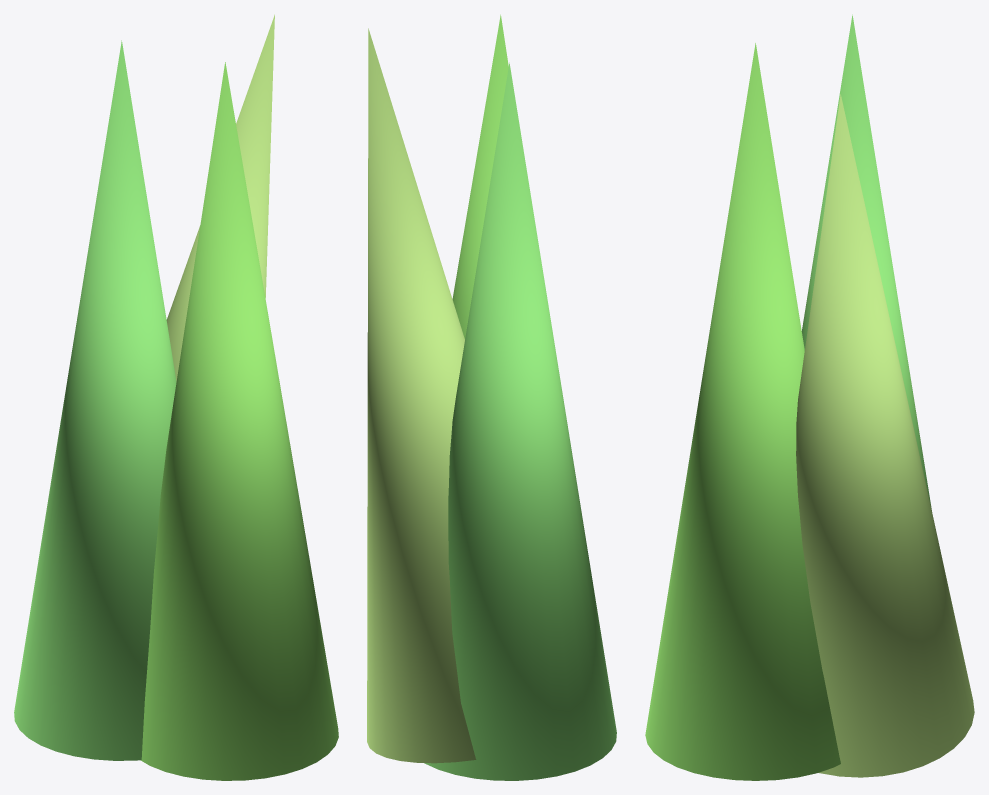
The model's file is Grass.fbx.
3 renders of one model, left to right at view 1: azimuth 30°, elevation 25°; view 2: azimuth 150°, elevation 25°; view 3: azimuth 270°, elevation 25°, orthographic. The views are drawn at different scales.
Visible parts, largest first — view 1: Cone; view 2: Cone; view 3: Cone.
Boxes of the visible parts, <box> form: Cone: <box>14,14,338,780</box>; Cone: <box>367,14,616,780</box>; Cone: <box>645,14,974,780</box>.
Size of the model in its own units: 0.7715 by 2.04 by 0.8647.
